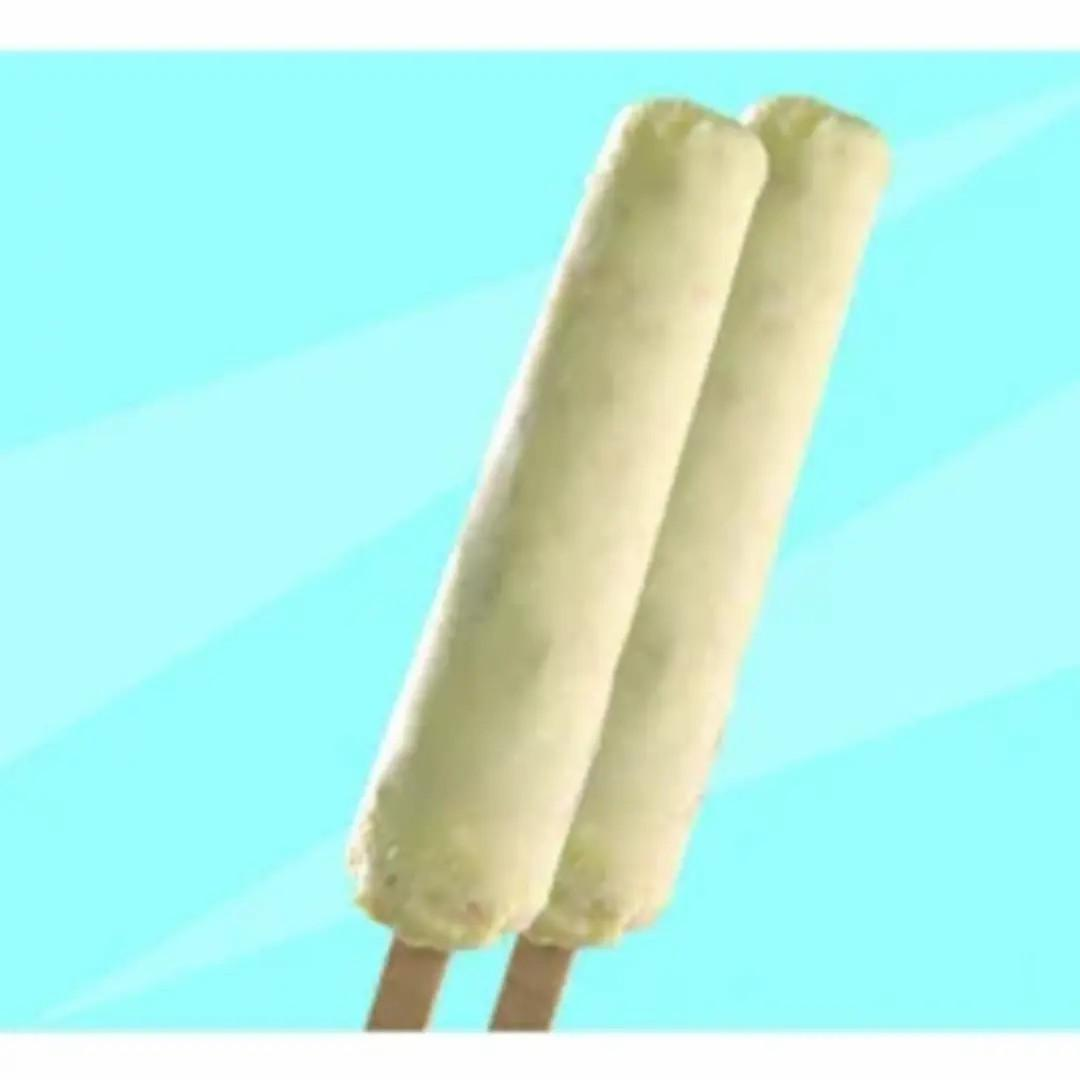Kulfi: (353, 96, 767, 942), (511, 91, 901, 950)
